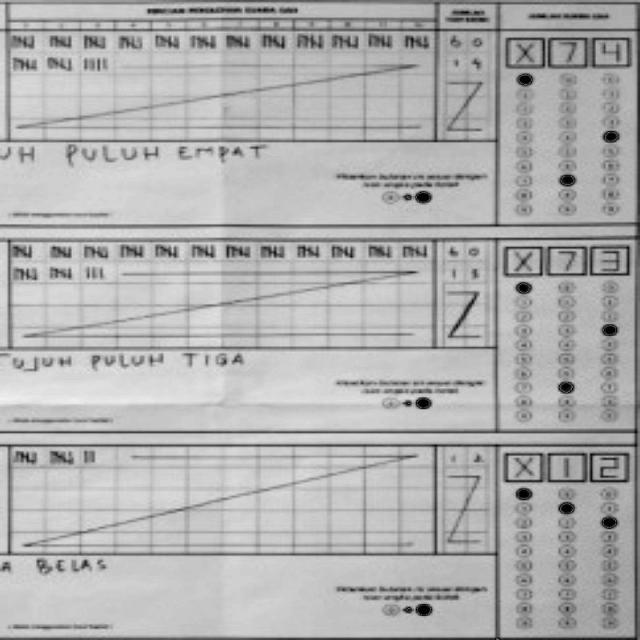Suara: (498, 448, 633, 486), (499, 32, 634, 70), (498, 241, 633, 278)
